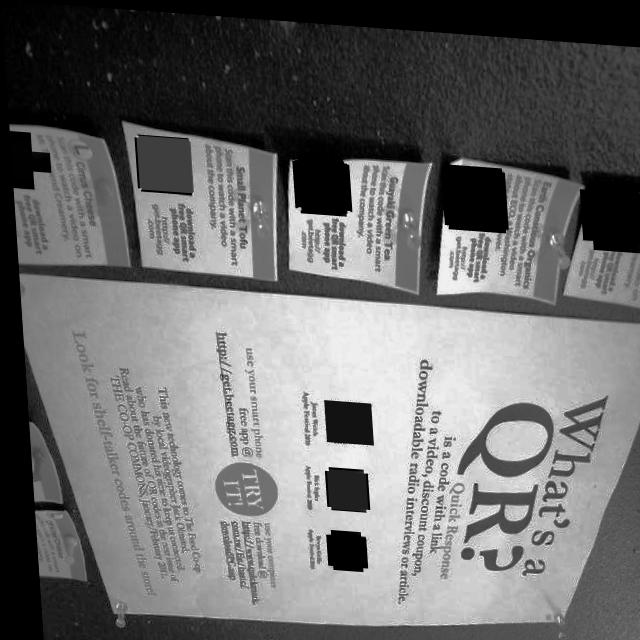qr_code: (440, 159, 504, 224), (581, 175, 640, 240), (133, 134, 190, 191), (292, 154, 346, 209), (318, 395, 367, 440), (319, 464, 361, 507), (320, 528, 358, 565), (7, 140, 39, 181)
